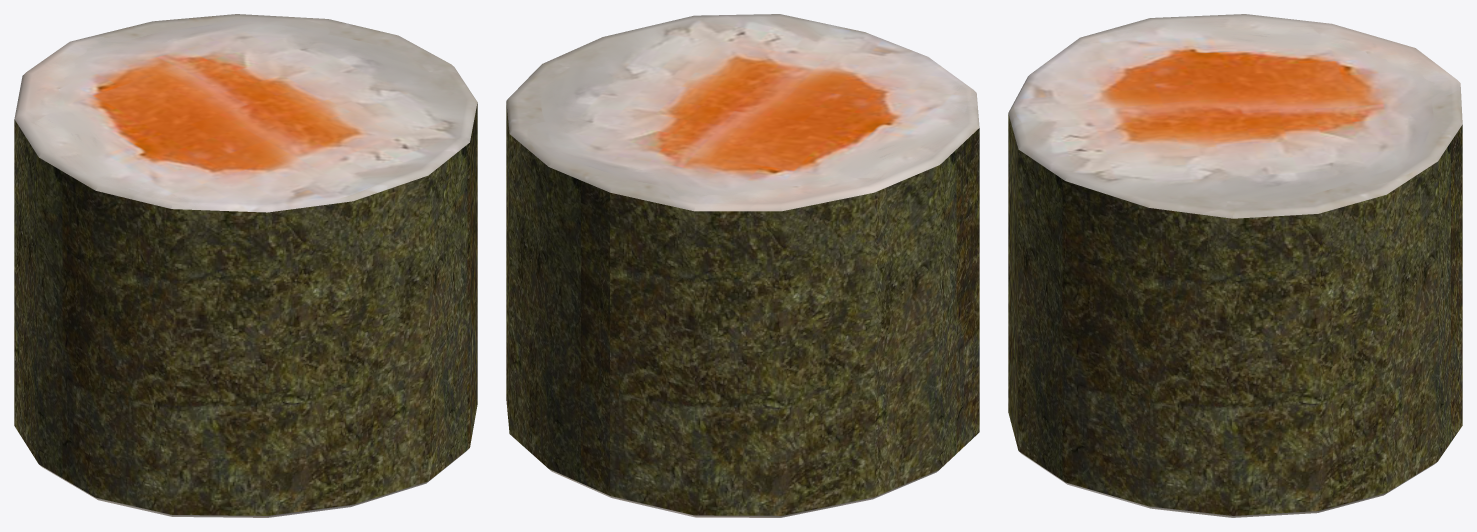
Rendered from _almonroll.fbx.
3 views of the same model, side by side, from view 1: azimuth 30°, elevation 25°; view 2: azimuth 150°, elevation 25°; view 3: azimuth 270°, elevation 25° (orthographic).
Parts seen in each view (by area): view 1: sushi_1_06; view 2: sushi_1_06; view 3: sushi_1_06.
Boxes of the visible parts, x1=… form: sushi_1_06: x1=14, y1=14, x2=477, y2=517; sushi_1_06: x1=506, y1=14, x2=979, y2=517; sushi_1_06: x1=1008, y1=14, x2=1462, y2=517.
Bounding box in the file's own units: 71.59 × 52.4 × 69.7.
Materials: 1 (1 with a texture image).
